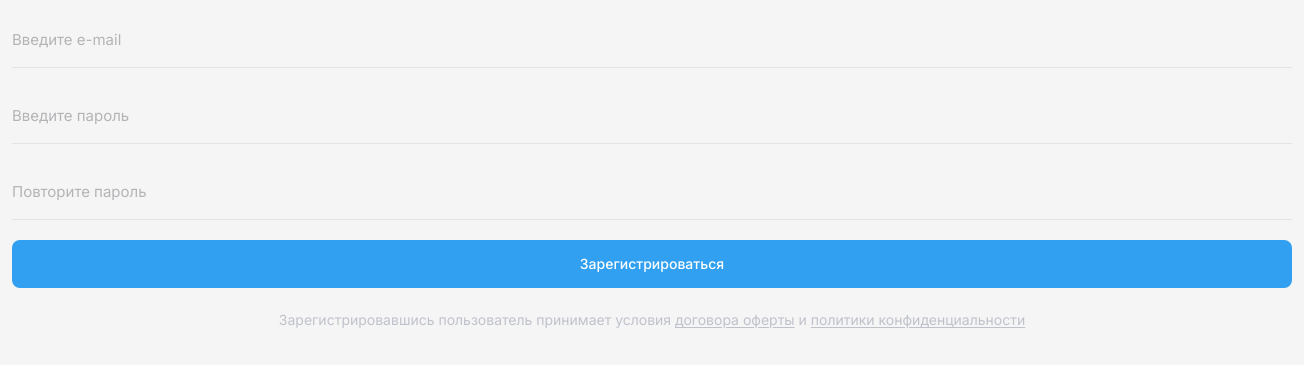
Test: RegistrationForm › unit: shows an error and blocks redirect when auth context still has no session
The width and height of the screenshot is (1304, 365).
Type "person@example.com" into the field labelled "Введите e-mail" at (652, 40), box [12,12,1292,68]
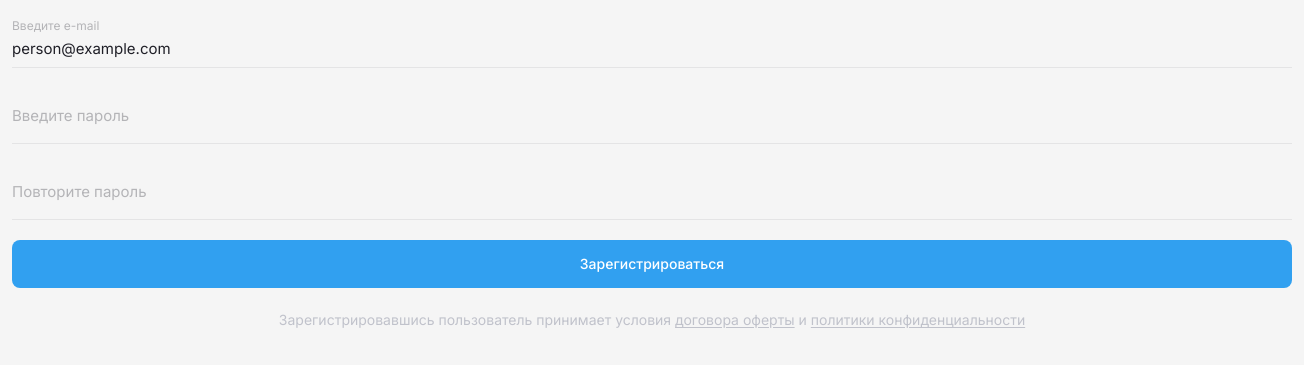
Type "strongPass1" into the password field labelled "Введите пароль" at (652, 116), box [12,88,1292,144]
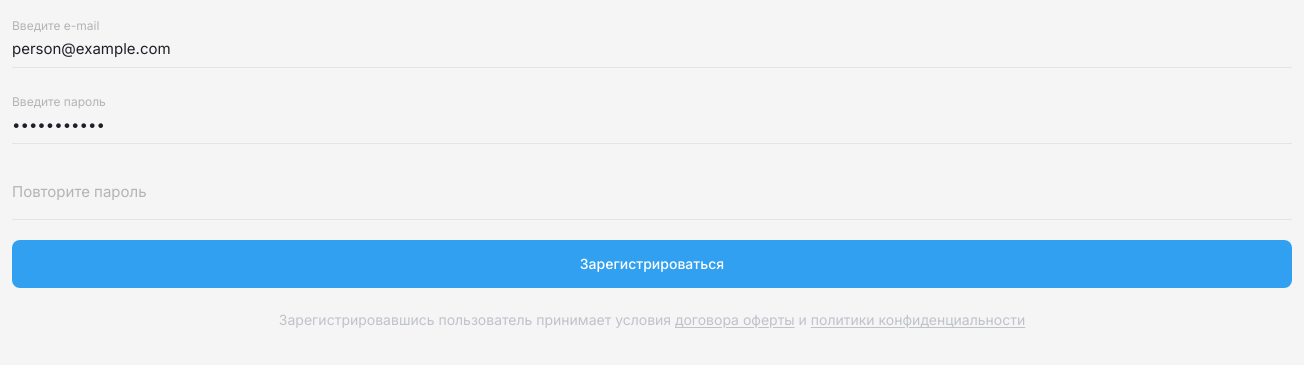
Type "strongPass1" into the password field labelled "Повторите пароль" at (652, 192), box [12,164,1292,220]
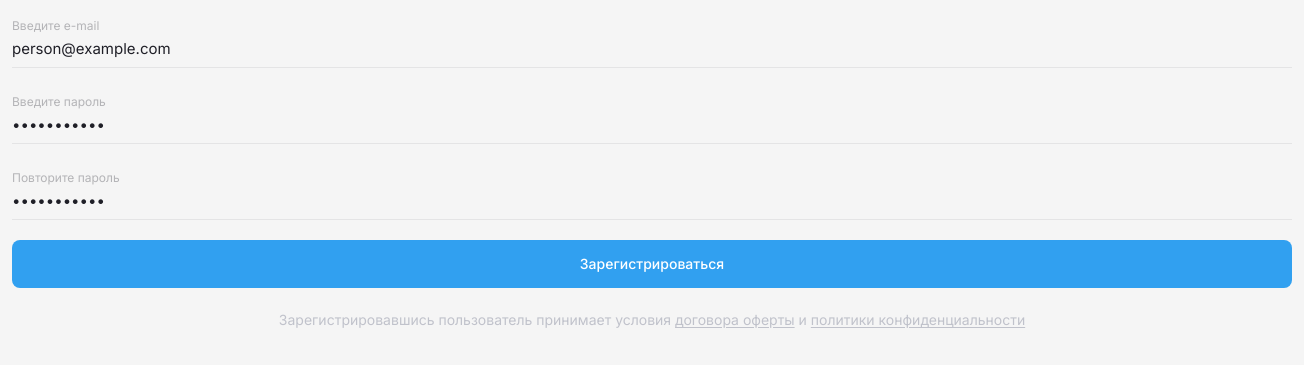
Submit the form "Зарегистрироваться"
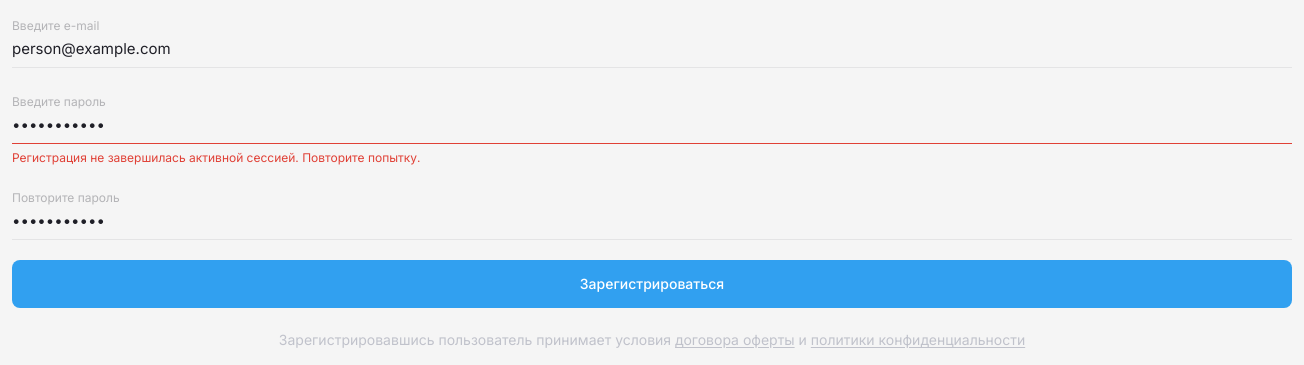
Now the text "Регистрация не завершилась активной сессией. Повторите попытку." is shown, box [12,150,420,165]
